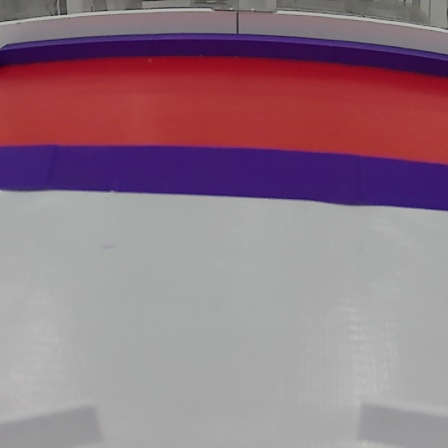red_aim: (3, 39, 448, 203)
